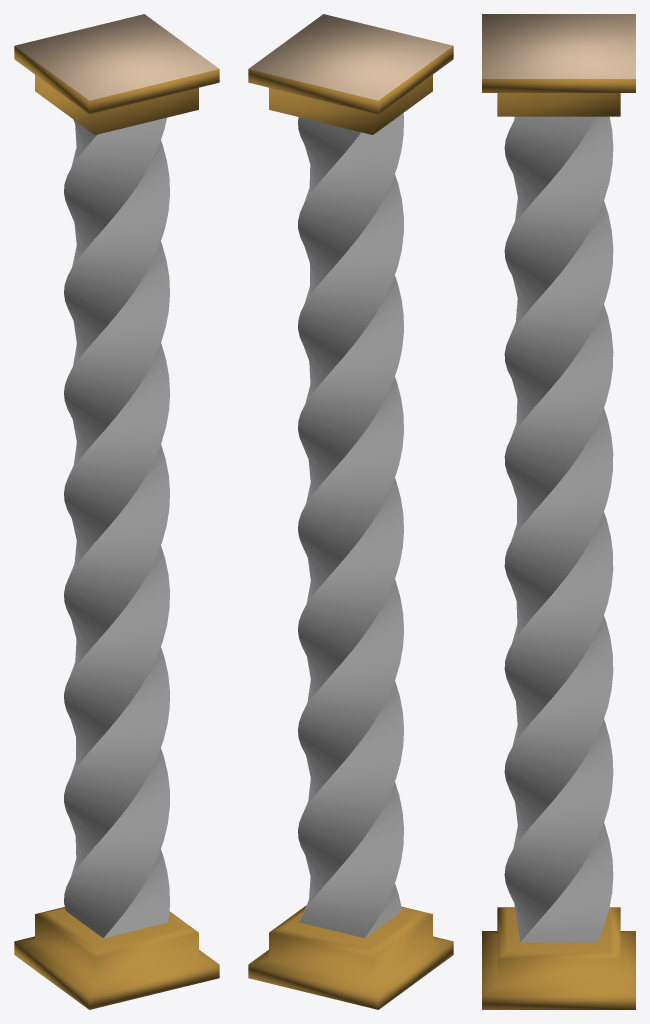
The model's file is Pillar.fbx.
3 renders of one model, left to right at view 1: azimuth 30°, elevation 25°; view 2: azimuth 150°, elevation 25°; view 3: azimuth 270°, elevation 25°, orthographic. The views are drawn at different scales.
Visible parts, largest first — view 1: Pillar, Base.001, Base; view 2: Pillar, Base.001, Base; view 3: Pillar, Base.001, Base.
Boxes of the visible parts, x1=… form: Pillar: x1=64, y1=117, x2=169, y2=938; Base.001: x1=14, y1=14, x2=219, y2=134; Base: x1=14, y1=907, x2=219, y2=1009; Pillar: x1=298, y1=113, x2=403, y2=938; Base.001: x1=248, y1=14, x2=453, y2=134; Base: x1=248, y1=905, x2=453, y2=1009; Pillar: x1=504, y1=116, x2=613, y2=942; Base.001: x1=482, y1=14, x2=635, y2=116; Base: x1=482, y1=907, x2=635, y2=1009.
Bounding box in the file's own units: 60 × 401 × 60.
